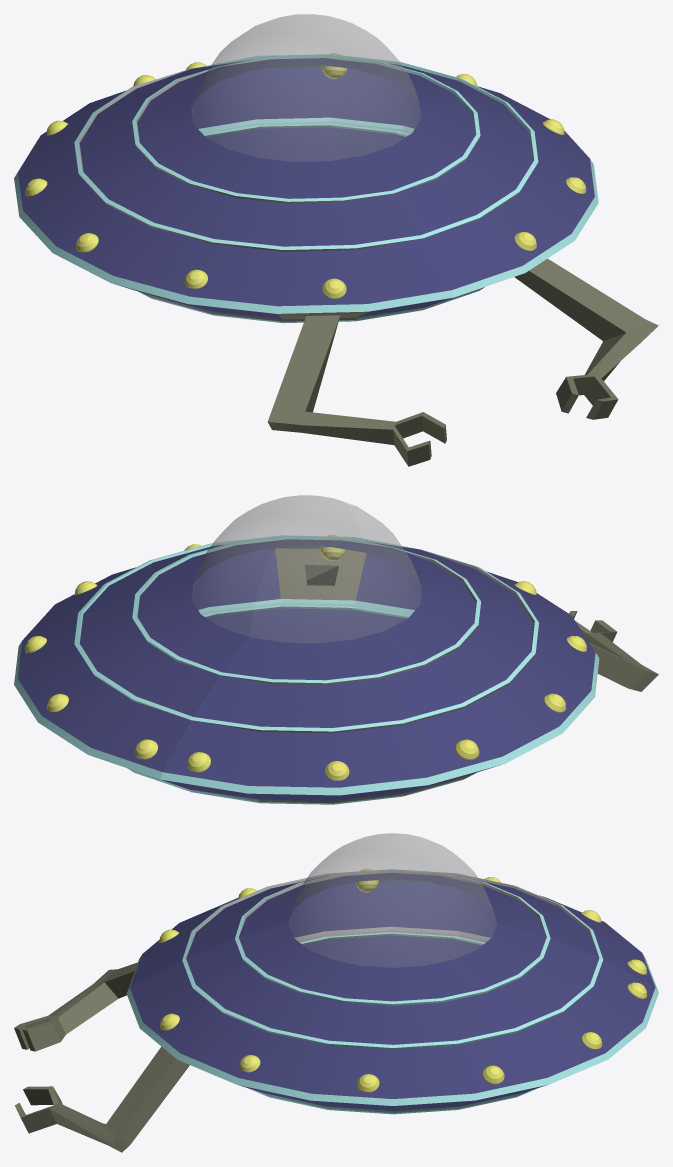
Rendered from ufo.fbx.
3 renders of one model, top to bottom at view 1: azimuth 30°, elevation 25°; view 2: azimuth 150°, elevation 25°; view 3: azimuth 270°, elevation 25°, orthographic. The views are drawn at different scales.
Parts seen in each view (by area): view 1: pCylinder6; view 2: pCylinder6; view 3: pCylinder6.
Part boxes in pixels (bbox=[...]): pCylinder6: bbox=[14, 14, 658, 466]; pCylinder6: bbox=[14, 495, 658, 804]; pCylinder6: bbox=[14, 833, 658, 1152].
Bounding box in the file's own units: 2.03 × 1.03 × 2.45.
